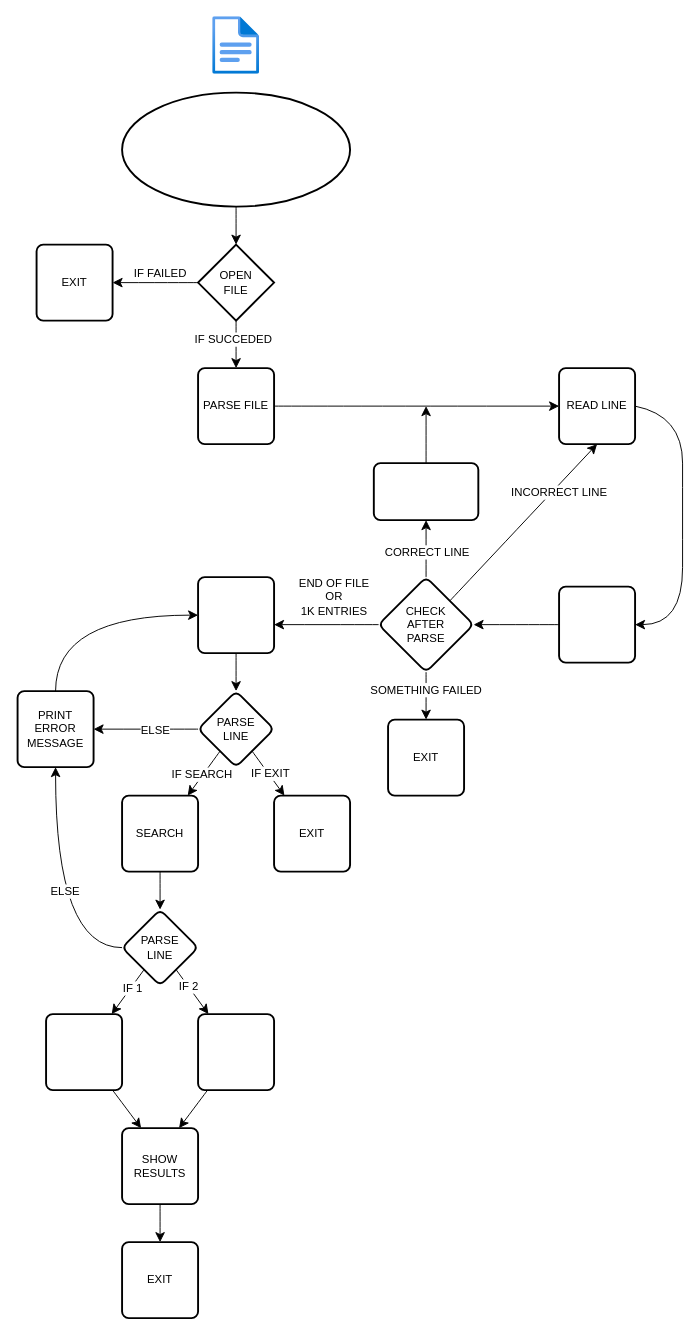
Image size: 699x1335. Some labels were removed from this diagram. Each missing label, with the box of its shape:
INSERT LINE: (372, 462, 479, 521)
MAIN LOOP: (197, 576, 275, 654)
PARSE FILE LINE: (558, 585, 636, 663)
SEARCH BY AUTHOR: (197, 1013, 275, 1091)
SEARCH BY TITLE: (45, 1013, 123, 1091)
START: (121, 91, 351, 207)
